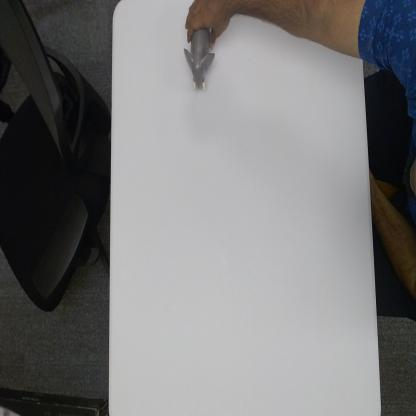Arm: (232, 0, 359, 57)
Elephant: (183, 28, 215, 95)
Hand: (182, 0, 231, 45)
